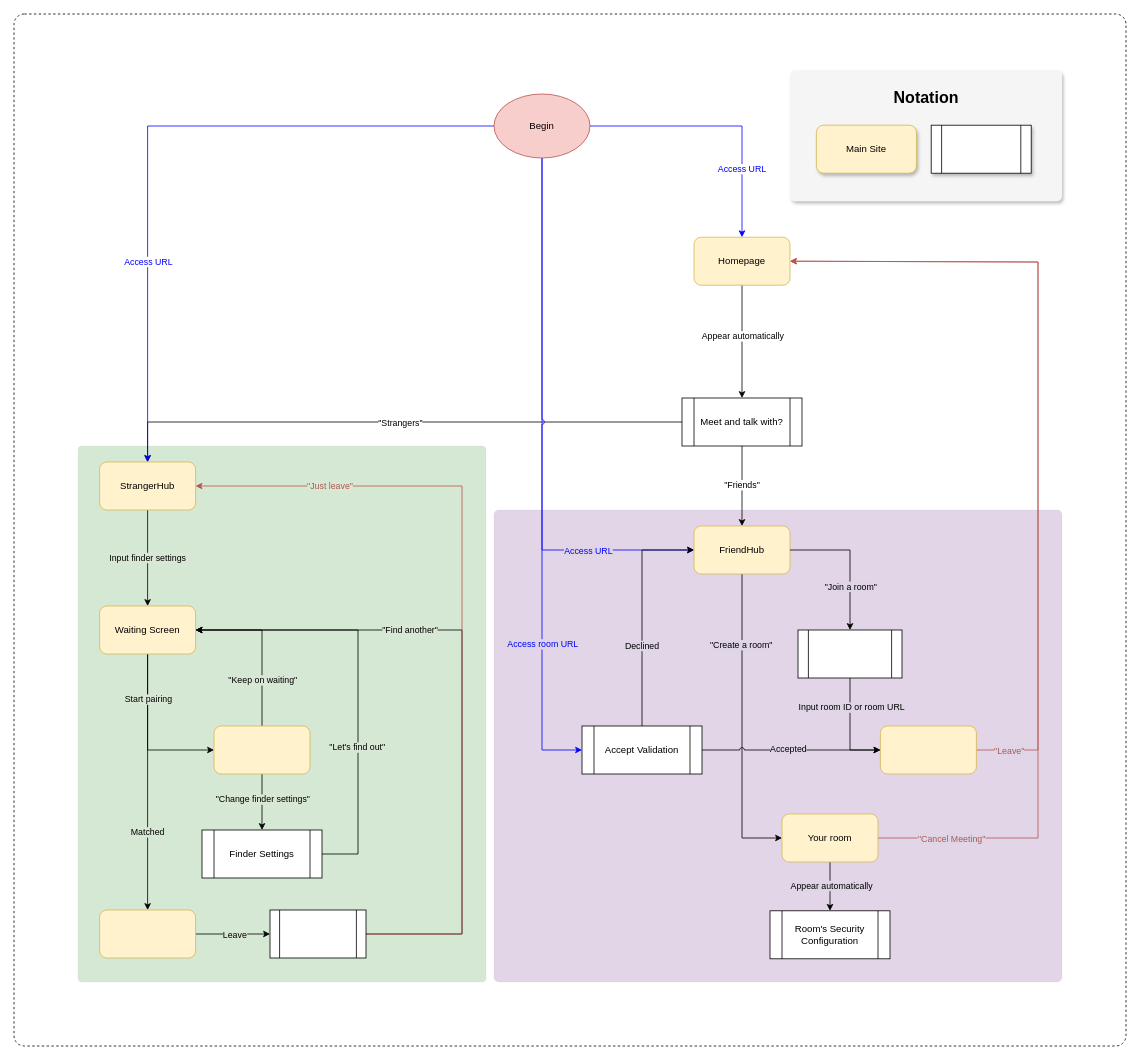
Image size: 1140x1060. Some labels were removed from this diagram. The shapes that lost their labels are listed below. From the top down, each one's centre as x and y in pixels, then its label:
the point at 981,150: Pop-Up
the point at 849,653: Join friend's room
the point at 261,749: No one matches
the point at 928,749: Friend's room
the point at 147,933: Private room
the point at 317,933: Leave Options
